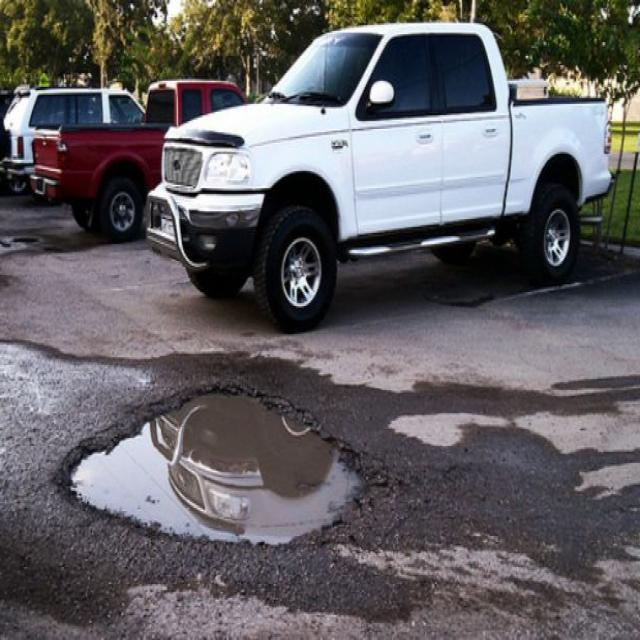pothole: (58, 373, 370, 551)
